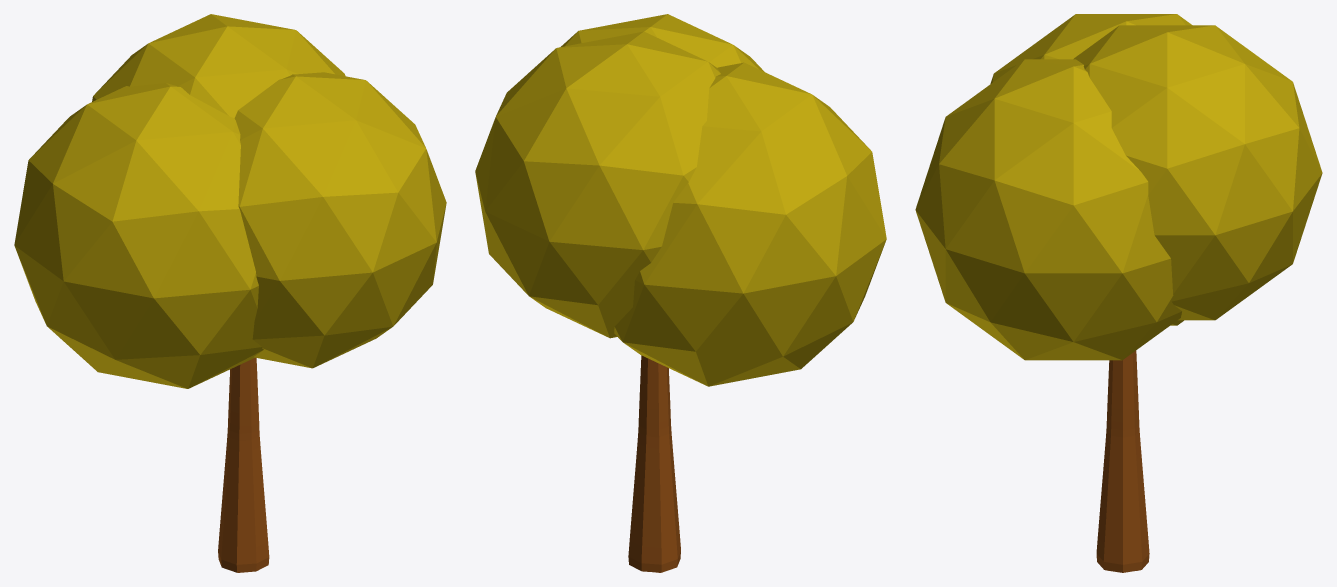
Rendered from Yellow Tree.fbx.
3 renders of one model, left to right at view 1: azimuth 30°, elevation 25°; view 2: azimuth 150°, elevation 25°; view 3: azimuth 270°, elevation 25°, orthographic. The views are drawn at different scales.
Visible parts, largest first — view 1: Plane; view 2: Plane; view 3: Plane.
Boxes of the visible parts, x1,y1,x2,y2 form: Plane: (14,14,446,572); Plane: (475,14,886,572); Plane: (915,14,1322,572).
Size of the model in its own units: 2194 by 3056 by 2104.
